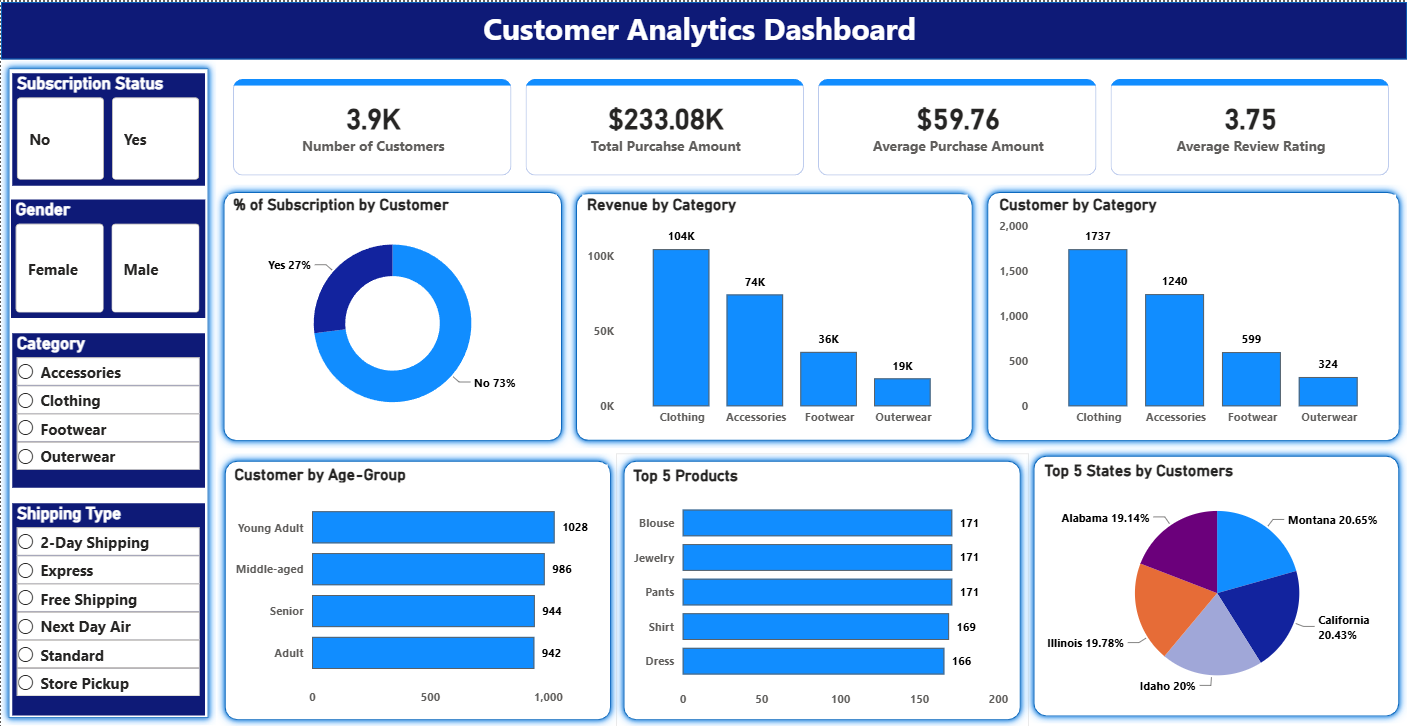

This screenshot's page, from the dashboard's own definition file:
{"tool":"powerbi","page":{"name":"Customer Analytics Dashboard","canvas":[1500,775],"ordinal":0},"visuals":[{"type":"shape","box":[229.4,194.2,377.1,281.4],"z":0},{"type":"shape","box":[0,63.3,229.4,709.2],"z":1000},{"type":"shape","title":"bnb","box":[656.5,480.9,439.7,292.6],"z":2000},{"type":"shape","box":[1044.1,194.2,455.9,281.4],"z":3000},{"type":"shape","box":[0,0,1499.9,61.3],"z":4000},{"type":"donutChart","title":"% of Subscription by Customer","fields":{"Category":["customer_behavior customer_details.subscription_status"],"Y":["customer_behavior customer_details.Number of Customer"]},"box":[242,205.4,350.4,256.1],"z":5000},{"type":"shape","box":[605.8,195.6,439,280],"z":6000},{"type":"columnChart","title":"Revenue by Category","fields":{"Category":["customer_behavior customer_details.category"],"Y":["Sum(customer_behavior customer_details.purchase_amount)"]},"box":[620.5,205.4,410.9,256.1],"z":7000},{"type":"columnChart","title":"Customer by Category","fields":{"Category":["customer_behavior customer_details.category"],"Y":["CountNonNull(customer_behavior customer_details.customer_id)"]},"box":[1059.6,205.4,427.8,256.1],"z":8000},{"type":"cardVisual","fields":{"Data":["customer_behavior customer_details.Number of Customer","customer_behavior customer_details.Total Purcahse Amount","customer_behavior customer_details.Average Purchase Amount","customer_behavior customer_details.Average Review Rating"]},"box":[229.3,62.7,1270.7,137.3],"z":9000},{"type":"textbox","box":[509.1,1.5,481.8,57.6],"z":10000},{"type":"advancedSlicerVisual","fields":{"Values":["customer_behavior customer_details.subscription_status"]},"box":[12.7,76,205.4,119.6],"z":11000},{"type":"advancedSlicerVisual","title":"Gender","fields":{"Values":["customer_behavior customer_details.gender"]},"box":[11.3,211.1,206.8,126.6],"z":12000},{"type":"listSlicer","title":"Category","fields":{"Values":["customer_behavior customer_details.category"]},"box":[12.7,353.2,205.4,164.6],"z":13000},{"type":"listSlicer","title":"Shipping Type","fields":{"Values":["customer_behavior customer_details.shipping_type"]},"box":[12.7,534.7,205.4,226.5],"z":14000},{"type":"shape","title":"bnb","box":[230.9,480.9,427.9,292.6],"z":15000},{"type":"barChart","title":"Customer by Age-Group","fields":{"Category":["customer_behavior customer_details.age_group"],"Y":["Count(customer_behavior customer_details.customer_id)"]},"box":[243.9,493.9,403,266.7],"z":16000},{"type":"clusteredBarChart","title":"Top 5 Products","fields":{"Category":["customer_behavior customer_details.item_purchased"],"Y":["CountNonNull(customer_behavior customer_details.customer_id)"]},"box":[669.1,494.1,410.3,267.6],"z":17000},{"type":"shape","title":"bnb","box":[1093.9,475.8,406.1,293.9],"z":18000},{"type":"pieChart","title":"Top 5 States by Customers","fields":{"Category":["customer_behavior customer_details.location"],"Y":["CountNonNull(customer_behavior customer_details.customer_id)"]},"box":[1107.6,489.4,378.8,263.6],"z":19000}]}

Visuals, with their boxes in screenshot pixels (x1, y1, x2, y2), scaled from the page's 1500x775 canvas onto the 1407x726 screenshot:
shape: (215,182,569,446)
shape: (0,59,215,724)
"bnb" shape: (616,450,1028,725)
shape: (979,182,1406,446)
shape: (0,0,1406,57)
"% of Subscription by Customer" donutChart: (227,192,556,432)
shape: (568,183,980,446)
"Revenue by Category" columnChart: (582,192,967,432)
"Customer by Category" columnChart: (994,192,1395,432)
cardVisual - customer_behavior customer_details.Number of Customer x customer_behavior customer_details.Total Purcahse Amount: (215,59,1406,187)
textbox: (478,1,929,55)
advancedSlicerVisual - customer_behavior customer_details.subscription_status: (12,71,205,183)
"Gender" advancedSlicerVisual: (11,198,205,316)
"Category" listSlicer: (12,331,205,485)
"Shipping Type" listSlicer: (12,501,205,713)
"bnb" shape: (217,450,618,725)
"Customer by Age-Group" barChart: (229,463,607,713)
"Top 5 Products" clusteredBarChart: (628,463,1012,714)
"bnb" shape: (1026,446,1406,721)
"Top 5 States by Customers" pieChart: (1039,458,1394,705)
